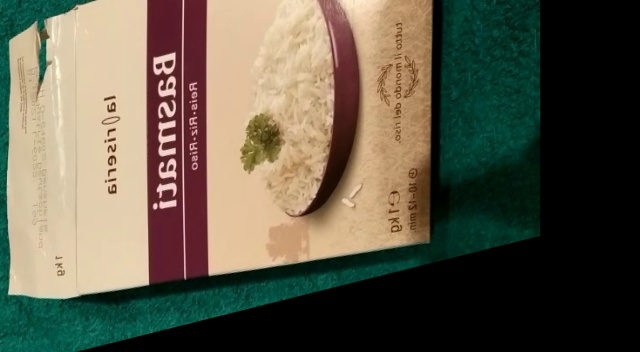basmati_rice: (10, 10, 440, 342)
